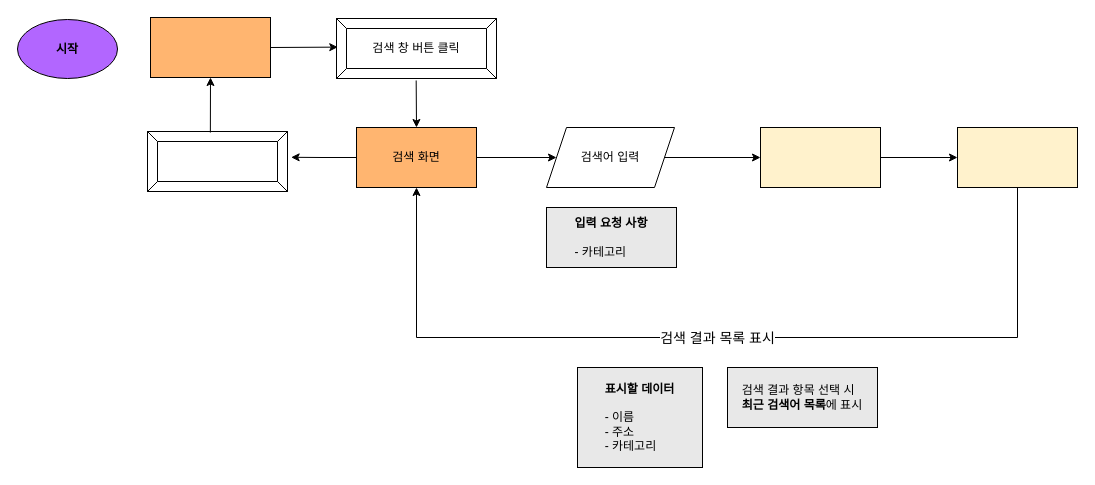
Image size: 1095x485. Some labels were removed from this diagram. Each missing label, with the centre of its shape:
API 요청 전송: the point at 820,157
API 응답 처리: the point at 1017,157
뒤로가기 클릭: the point at 217,161
지도 화면: the point at 210,47
